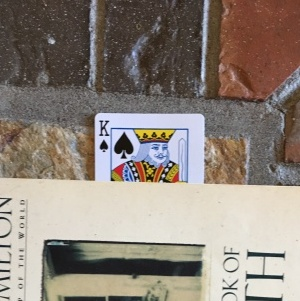card: (94, 111, 206, 190)
